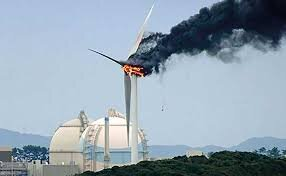faulty: (99, 31, 157, 98)
